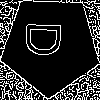D: (26, 20, 71, 59)
